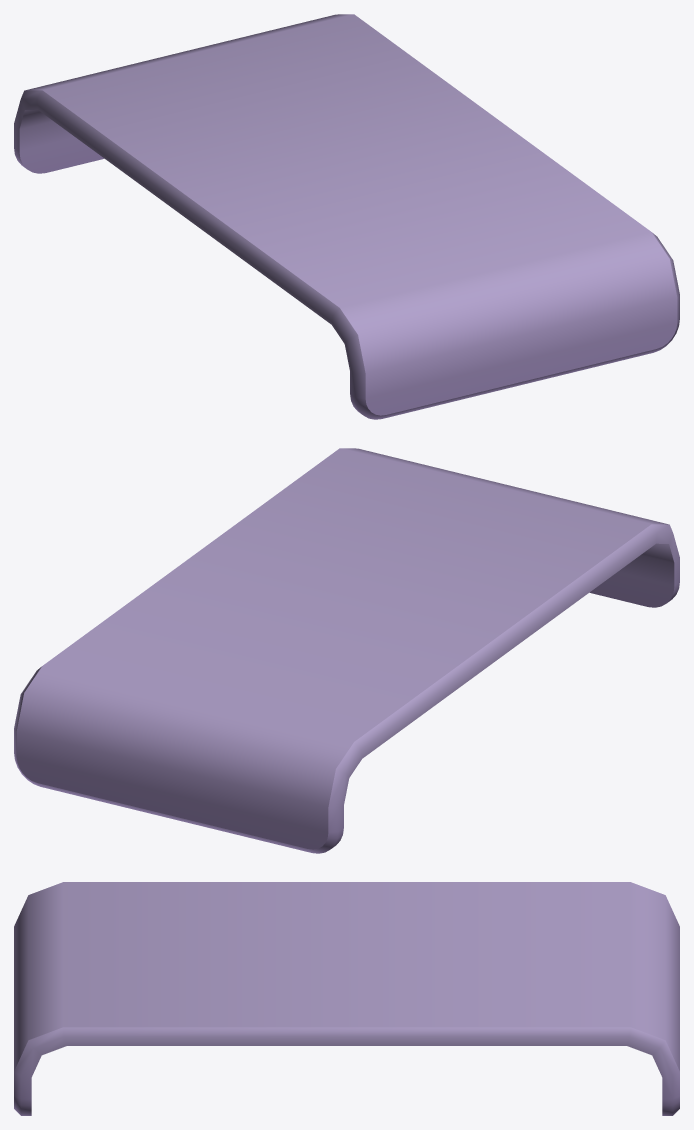
File: cover-color-double.glb
3 views of the same model, one above another, from view 1: azimuth 30°, elevation 25°; view 2: azimuth 150°, elevation 25°; view 3: azimuth 270°, elevation 25° (orthographic). The views are drawn at different scales.
Parts seen in each view (by area): view 1: cover-color-double; view 2: cover-color-double; view 3: cover-color-double.
Part boxes in pixels (x1,y1,x2,y2): cover-color-double: (14, 14, 679, 419); cover-color-double: (14, 448, 679, 853); cover-color-double: (14, 882, 679, 1115).
Size of the model in its own units: 1.02 by 0.3 by 1.9.
